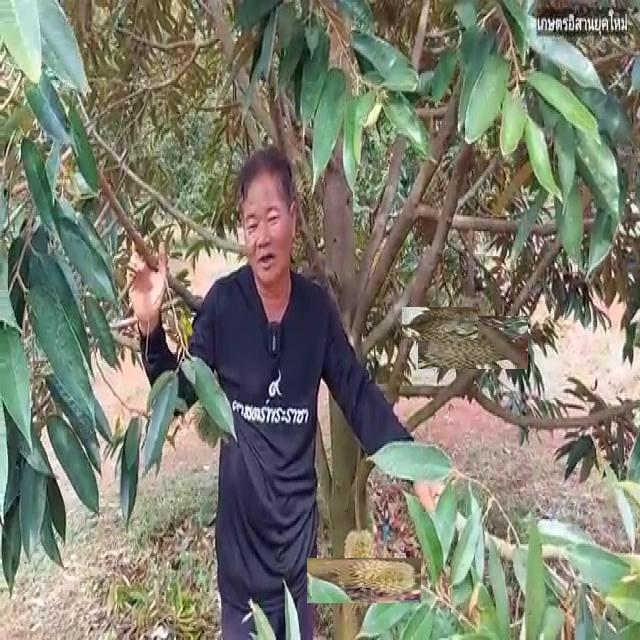durian: (432, 301, 514, 383), (324, 540, 404, 620), (412, 297, 467, 352)
